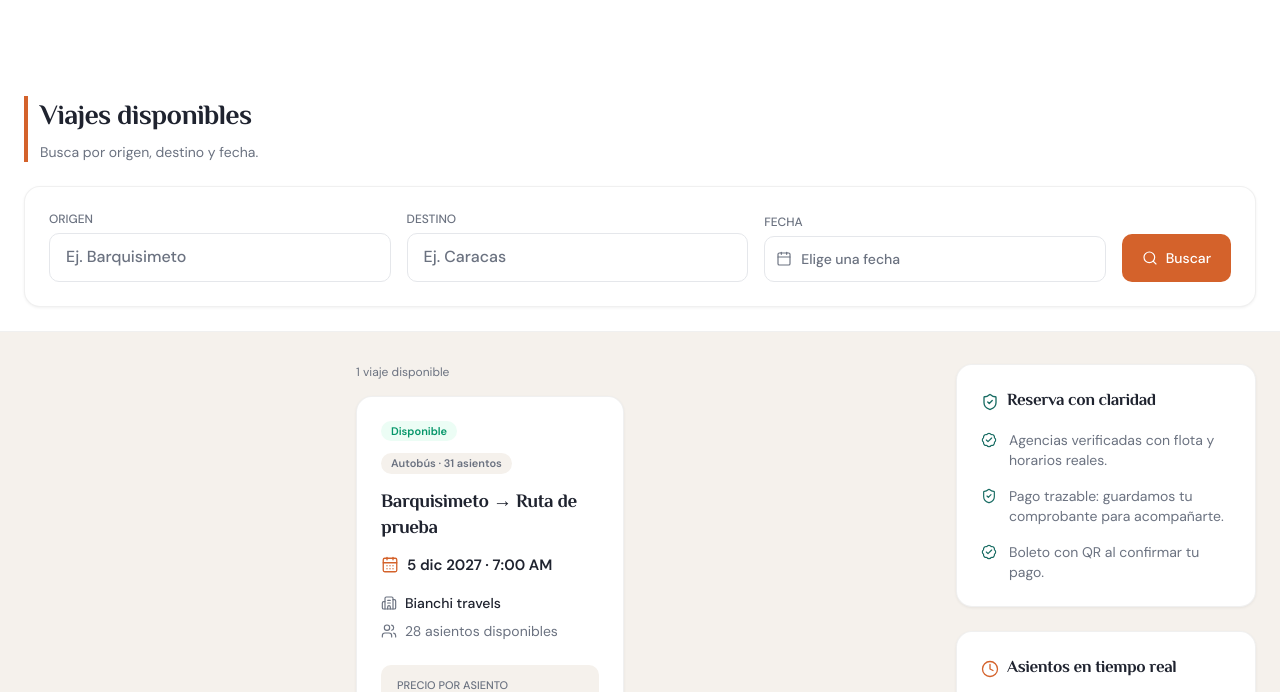
Scenario: ViajesPage (MKT-002) › filtra por destino y permite limpiar los filtros
Expected: the heading "Barquisimeto → Ruta de prueba" is shown, [381,490,599,542]
Type "Maracaibo" into the field labelled "Destino" at (577,257), box [407,233,748,282]
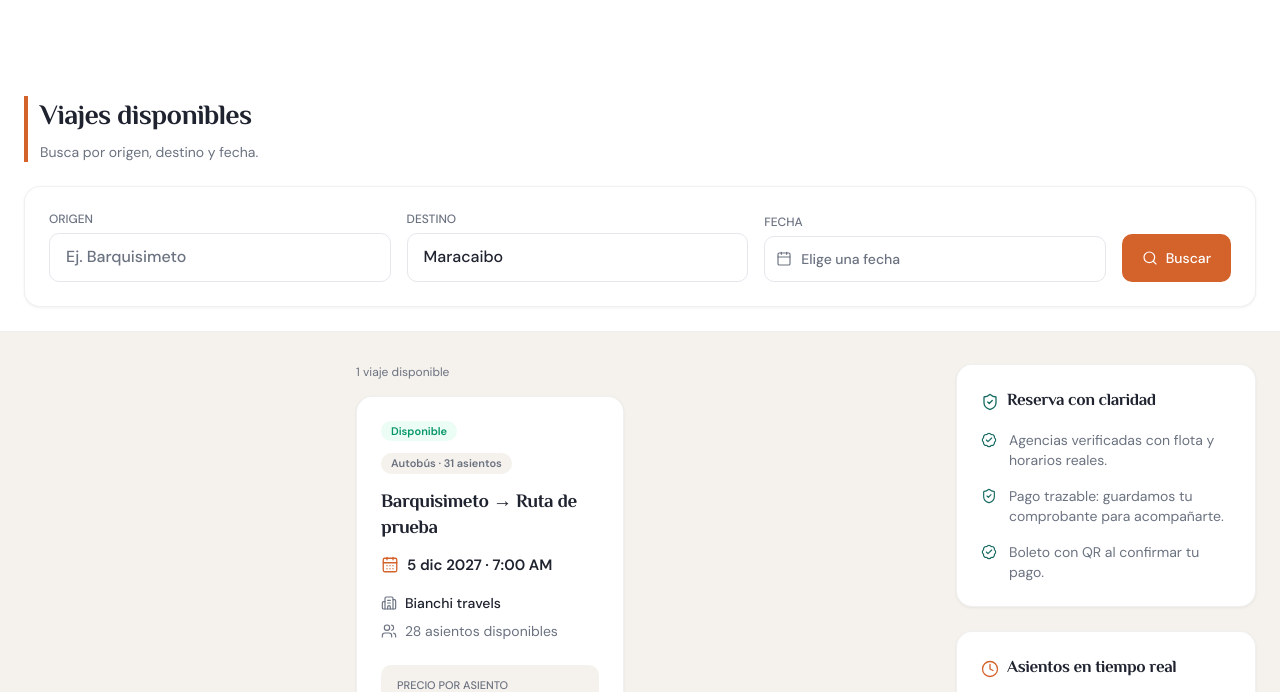
Click the button "Buscar" at (1176,258), box [1122,234,1231,282]
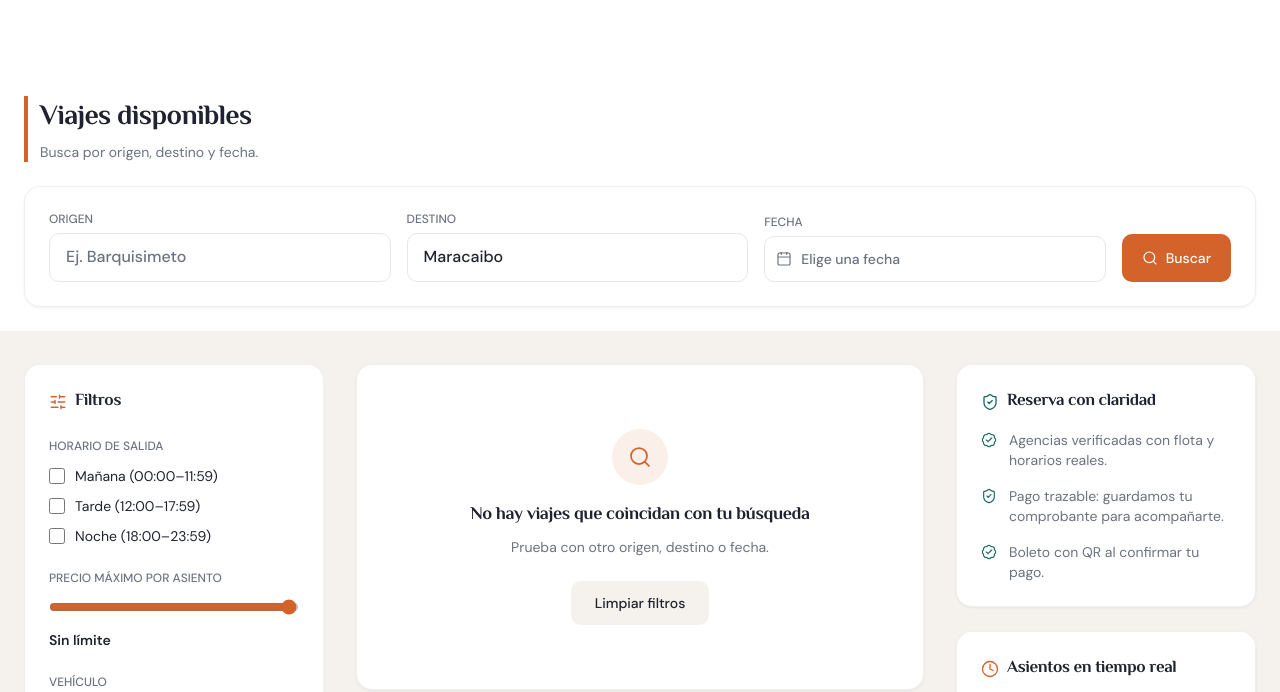
Now the heading "No hay viajes que coincidan con tu búsqueda" is shown, box [470,501,810,529]
Click the button "Limpiar filtros" at (640,603), box [571,581,709,625]
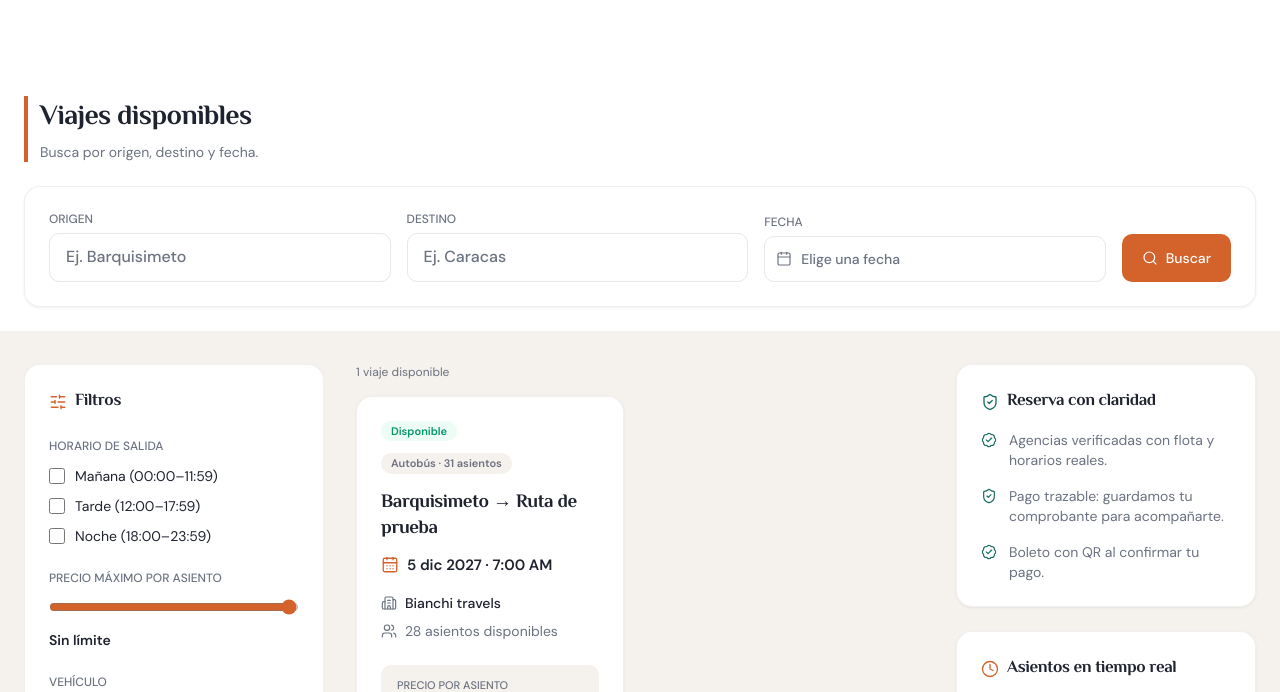
Now the heading "Barquisimeto → Ruta de prueba" is shown, box [381,490,599,542]
